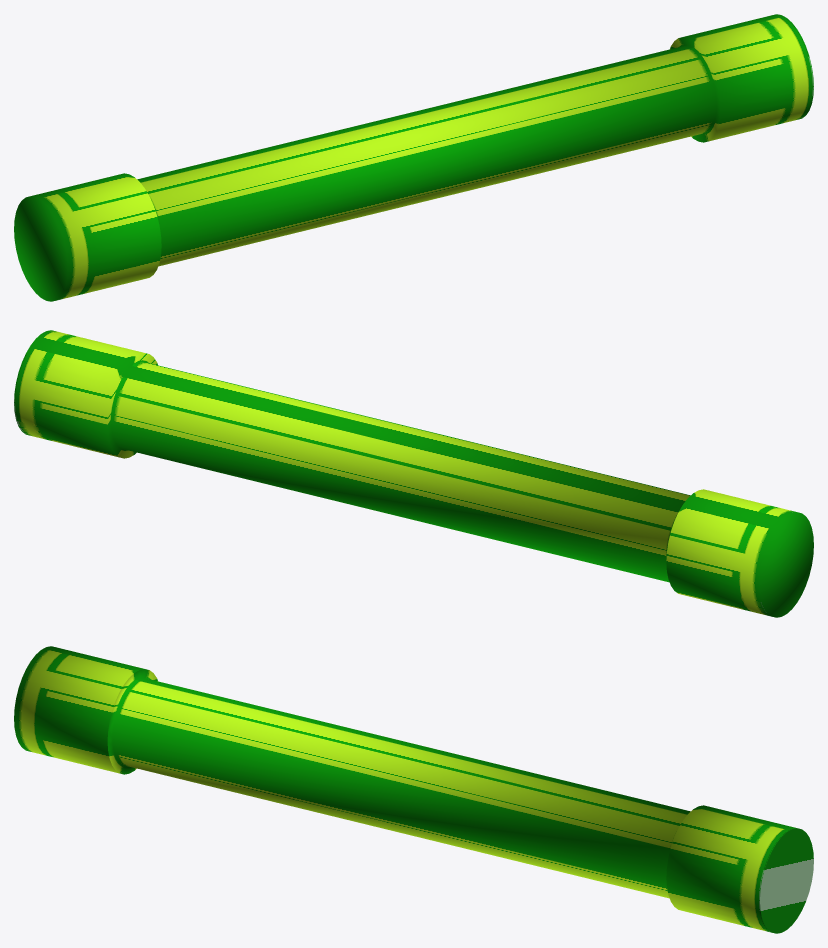
Rendered from level1_pipe.dae.
3 views of the same model, one above another, from view 1: azimuth 30°, elevation 25°; view 2: azimuth 150°, elevation 25°; view 3: azimuth 330°, elevation 25° (orthographic).
Parts seen in each view (by area): view 1: Cylinder; view 2: Cylinder; view 3: Cylinder.
Boxes of the visible parts, x1,y1,x2,y2 form: Cylinder: (14, 14, 813, 301); Cylinder: (14, 330, 813, 617); Cylinder: (14, 646, 813, 933).
Size of the model in its own units: 19.13 by 2.4 by 2.4.
